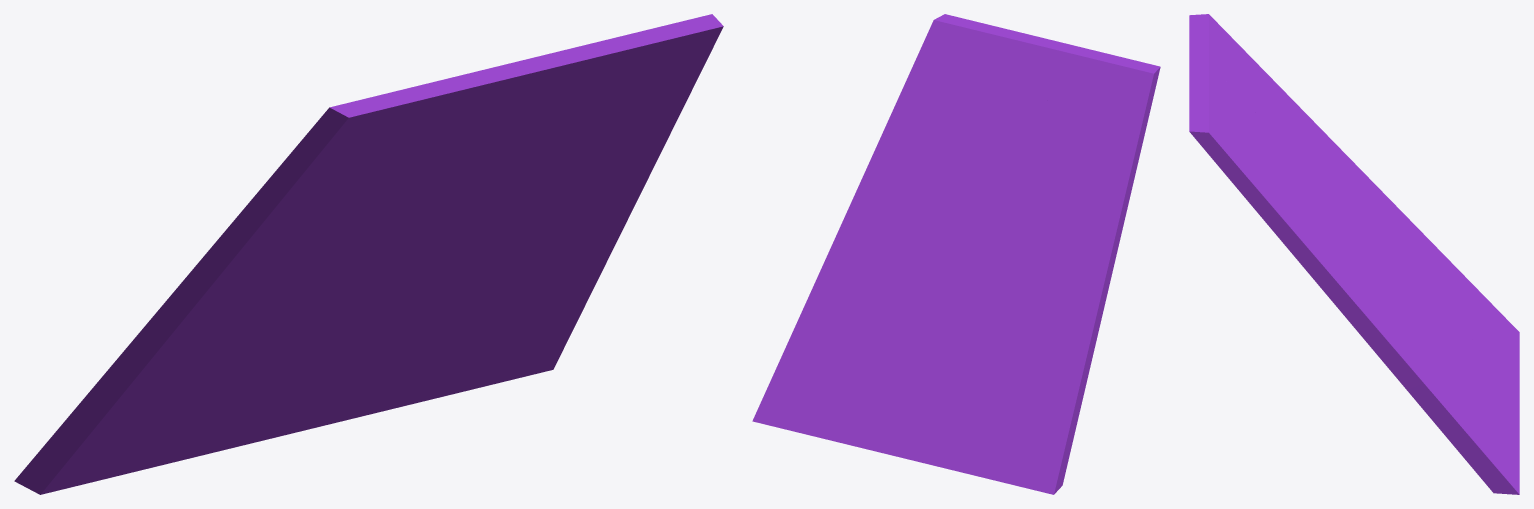
The model's file is Window_105_chunks.fbx.
The picture shows the model from 3 angles, left to right: view 1: azimuth 30°, elevation 25°; view 2: azimuth 150°, elevation 25°; view 3: azimuth 270°, elevation 25°; orthographic projection. The views are drawn at different scales.
Parts seen in each view (by area): view 1: Window_105_0, Window_105_10, Window_105_1, Window_105_5, Window_105_9, Window_105_2, Window_105_6, Window_105_3, Window_105_17, Window_105_13, Window_105_15, Window_105_14 (+2 smaller); view 2: Window_105_0, Window_105_9, Window_105_10, Window_105_1, Window_105_2, Window_105_6, Window_105_7, Window_105_13, Window_105_8, Window_105_4, Window_105_17, Window_105_14 (+6 smaller); view 3: Window_105_0, Window_105_9, Window_105_10, Window_105_1, Window_105_6, Window_105_13, Window_105_2, Window_105_7, Window_105_12, Window_105_14, Window_105_4, Window_105_8 (+5 smaller).
Boxes of the visible parts, <box> form: Window_105_0: <box>440,14,723,236</box>; Window_105_10: <box>14,329,299,494</box>; Window_105_1: <box>227,76,515,255</box>; Window_105_5: <box>406,118,677,303</box>; Window_105_9: <box>233,300,441,447</box>; Window_105_2: <box>164,211,419,335</box>; Window_105_6: <box>417,284,563,396</box>; Window_105_3: <box>369,73,525,252</box>; Window_105_17: <box>272,264,415,349</box>; Window_105_13: <box>507,253,601,347</box>; Window_105_15: <box>165,300,312,346</box>; Window_105_14: <box>525,157,658,269</box>; Window_105_0: <box>882,14,1067,250</box>; Window_105_9: <box>803,290,981,468</box>; Window_105_10: <box>947,308,1103,494</box>; Window_105_1: <box>1064,43,1160,219</box>; Window_105_2: <box>988,184,1124,308</box>; Window_105_6: <box>752,296,915,433</box>; Window_105_7: <box>876,166,965,307</box>; Window_105_13: <box>767,276,876,387</box>; Window_105_8: <box>978,292,1102,360</box>; Window_105_4: <box>1043,44,1083,184</box>; Window_105_17: <box>931,250,1009,334</box>; Window_105_14: <box>851,140,881,278</box>; Window_105_0: <box>1189,61,1364,247</box>; Window_105_9: <box>1398,289,1519,466</box>; Window_105_10: <box>1399,209,1519,389</box>; Window_105_1: <box>1189,14,1309,135</box>; Window_105_6: <box>1411,316,1519,494</box>; Window_105_13: <box>1398,325,1493,470</box>; Window_105_2: <box>1300,117,1371,229</box>; Window_105_7: <box>1316,239,1412,335</box>; Window_105_12: <box>1340,297,1423,389</box>; Window_105_14: <box>1301,241,1398,327</box>; Window_105_4: <box>1191,52,1304,154</box>; Window_105_8: <box>1371,181,1437,301</box>.
Size of the model in its own units: 969 by 947 by 833.
